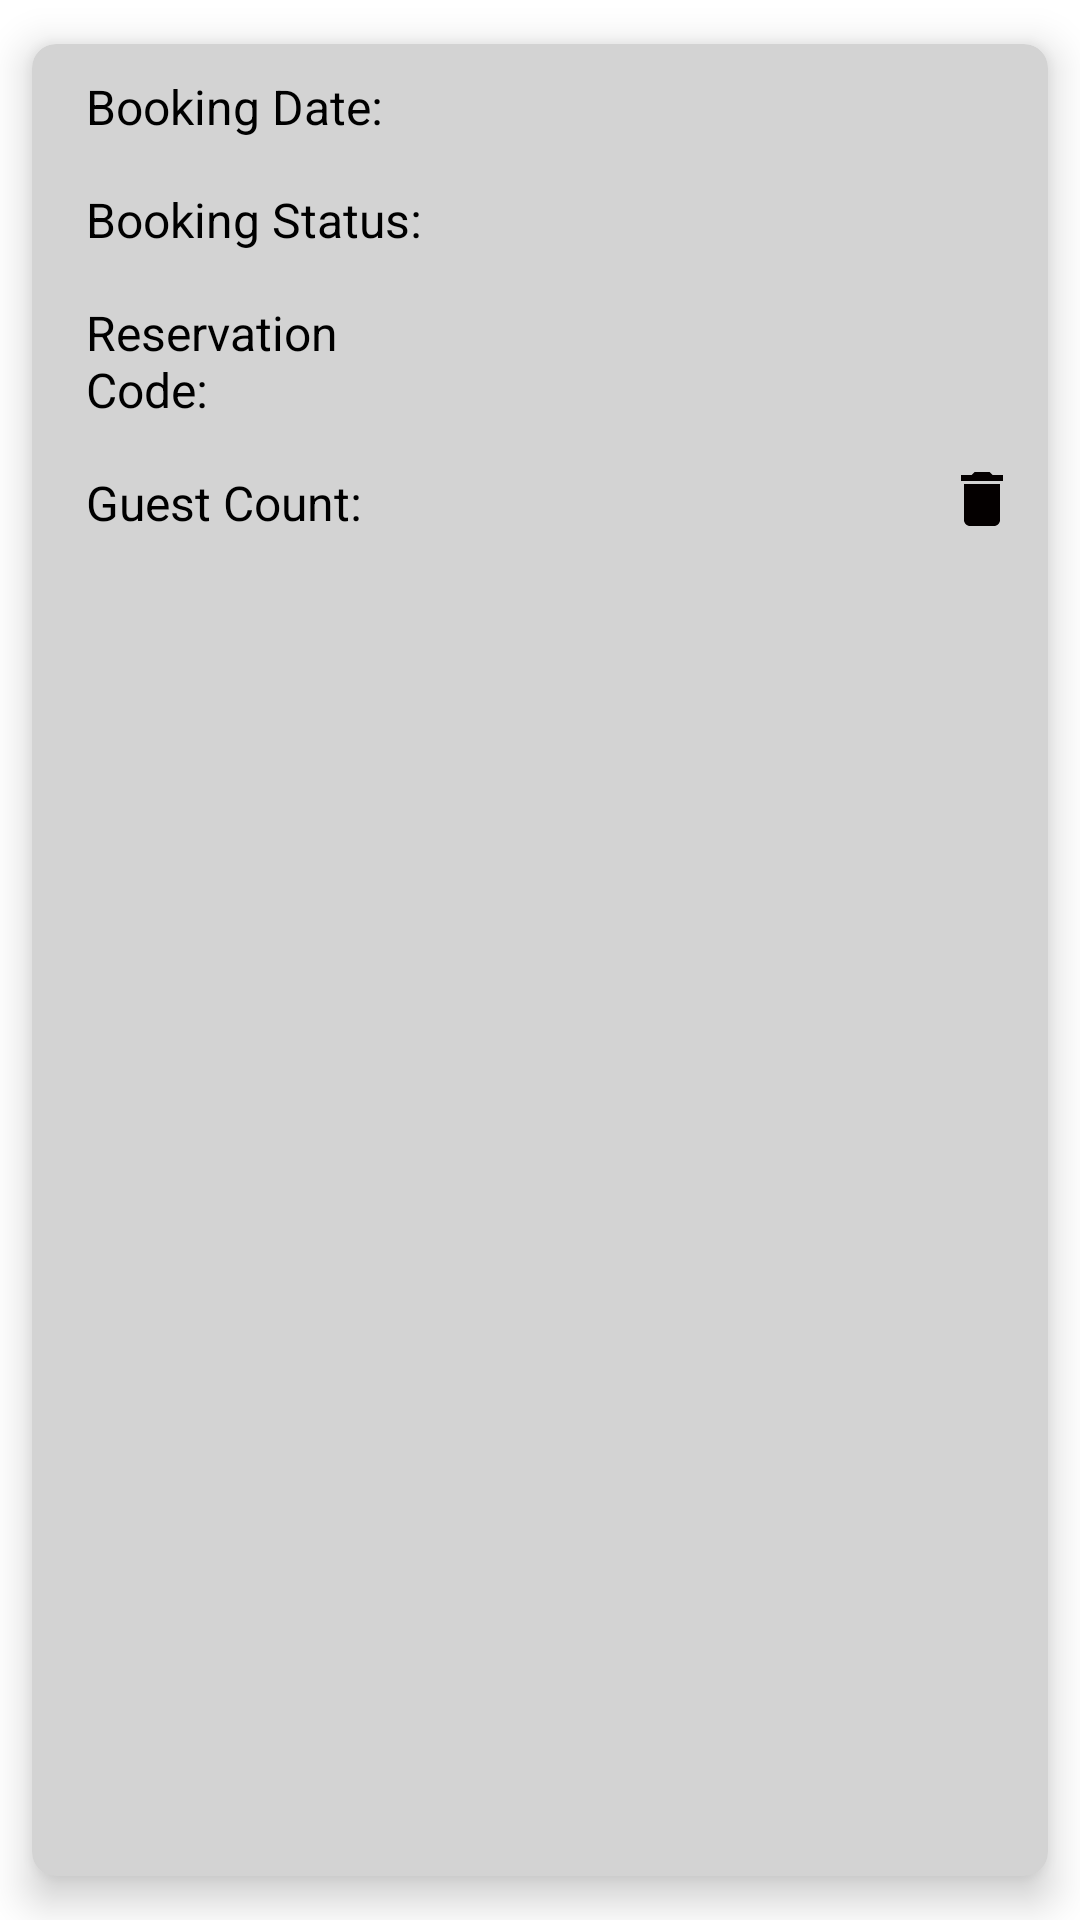

Icon click points for this 1080x1920 phone screenshot, format (x=x, y=y):
delete: (x=982, y=499)
